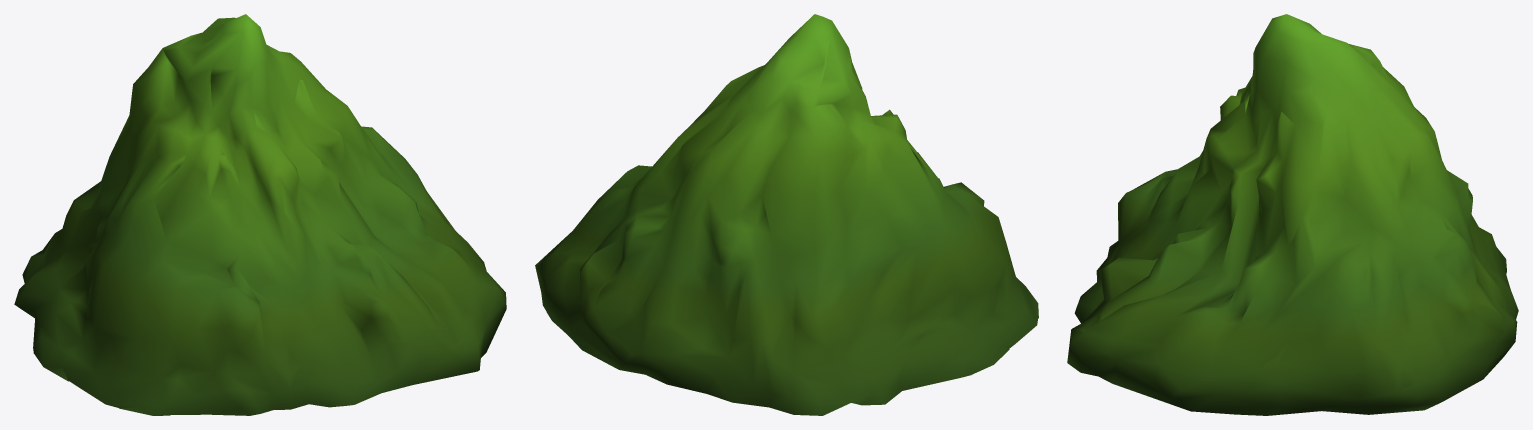
File: Mountain_3.fbx
3 renders of one model, left to right at view 1: azimuth 30°, elevation 25°; view 2: azimuth 150°, elevation 25°; view 3: azimuth 270°, elevation 25°, orthographic. The views are drawn at different scales.
Visible parts, largest first — view 1: Mountain_3; view 2: Mountain_3; view 3: Mountain_3.
Part boxes in pixels (x1,y1,x2,y2): Mountain_3: [14, 14, 506, 415]; Mountain_3: [535, 14, 1038, 415]; Mountain_3: [1067, 14, 1518, 415].
Bounding box in the file's own units: 1585 × 1107 × 1494.
